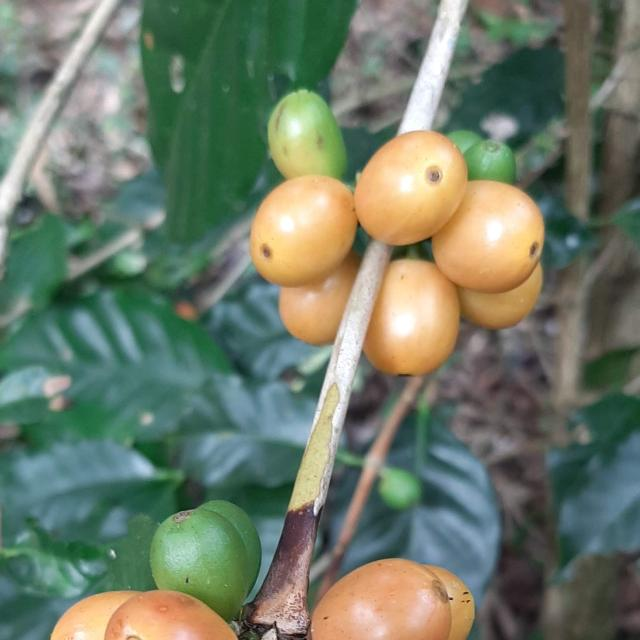green: (149, 510, 247, 622), (199, 501, 262, 594), (465, 139, 516, 184)
red: (354, 130, 468, 246), (433, 180, 545, 293), (250, 174, 358, 287), (363, 259, 461, 376), (312, 560, 452, 640), (279, 250, 361, 346), (104, 591, 238, 640), (458, 263, 544, 329), (50, 592, 139, 640), (425, 566, 476, 640)
yellow: (268, 88, 347, 179)
